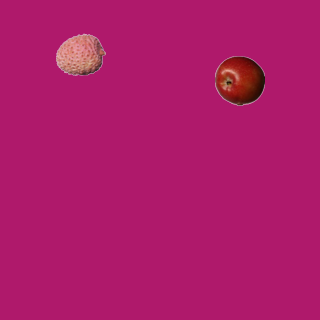Apple Braeburn: (214, 55, 264, 105)
Lychee: (55, 29, 105, 79)
